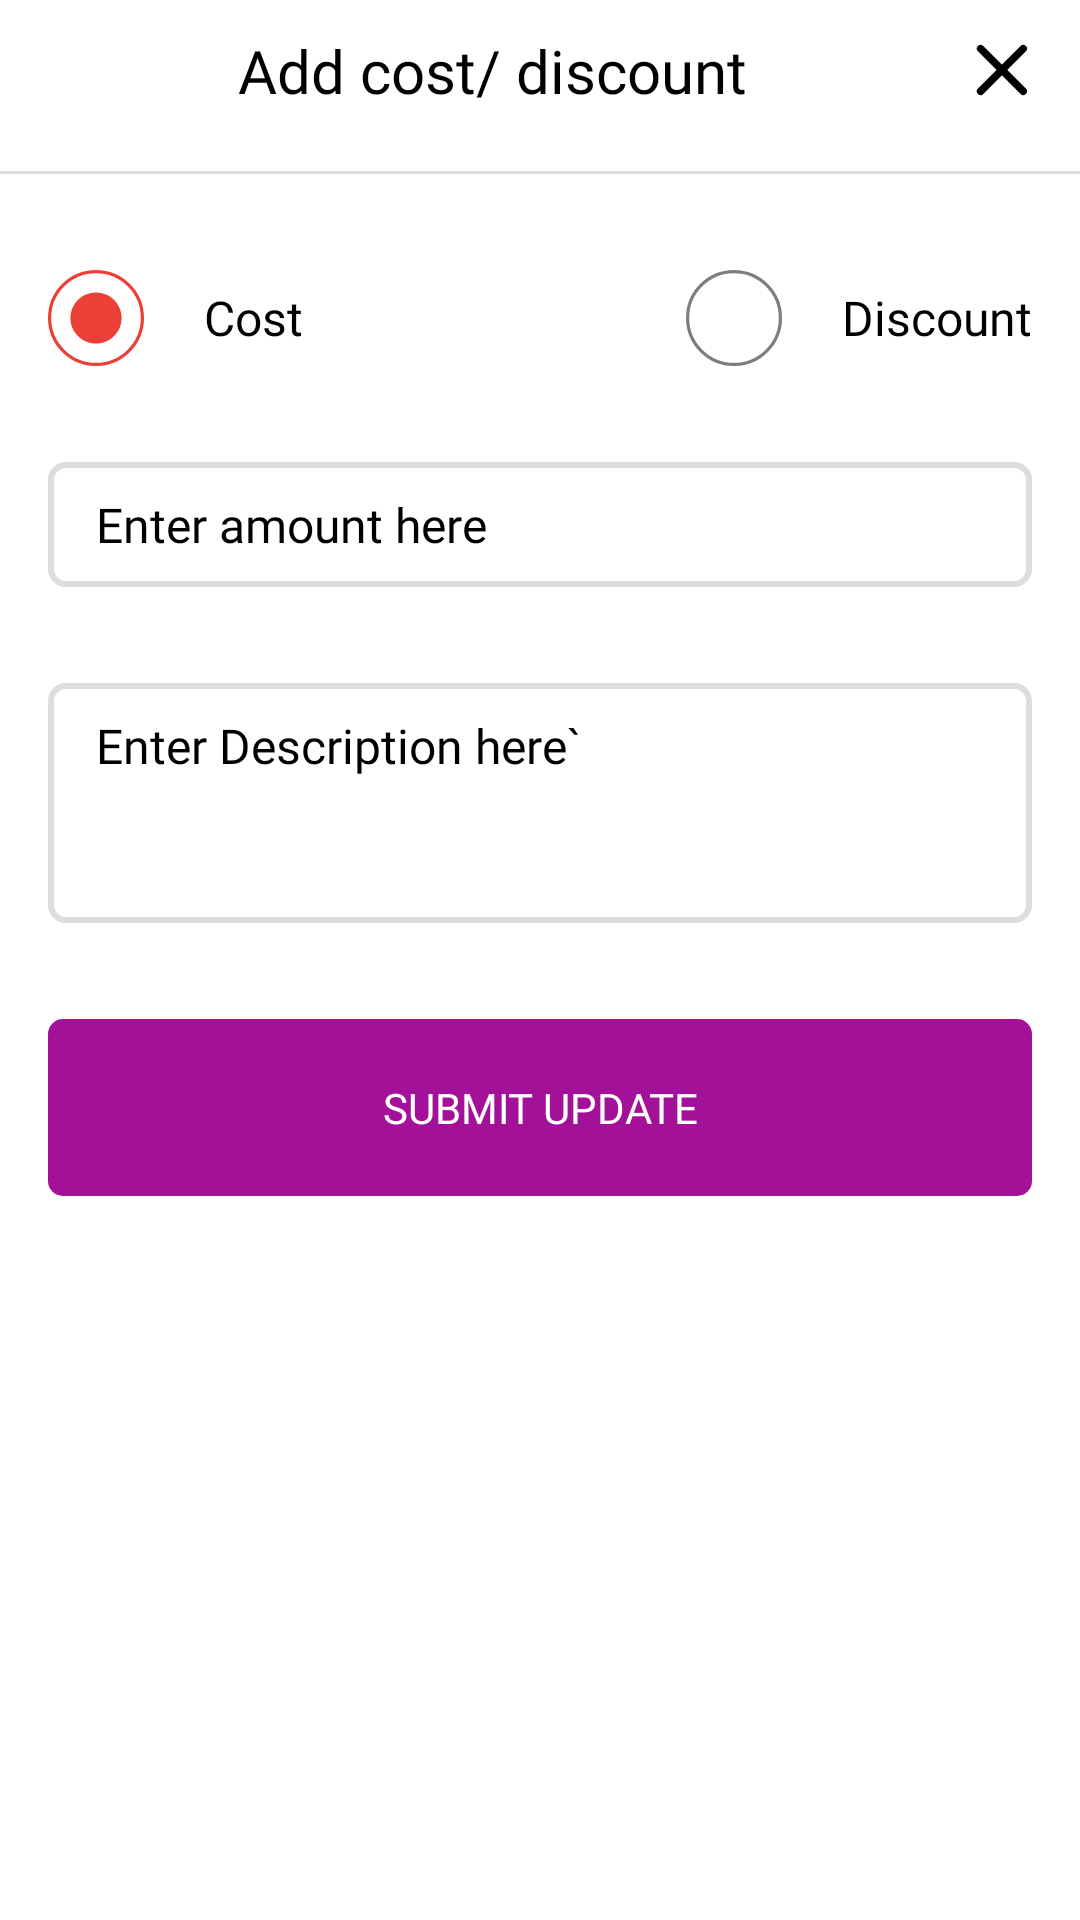

Locate icon controls on the screen. Image size 1080 x 1920, boxes as (x1, y1, x2, y2).
close: (976, 44, 1028, 96)
